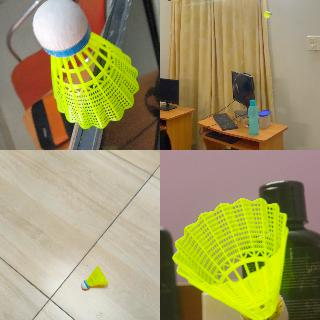shuttlecock: (172, 197, 289, 319), (32, 0, 139, 128), (81, 265, 107, 289), (262, 11, 272, 17)
